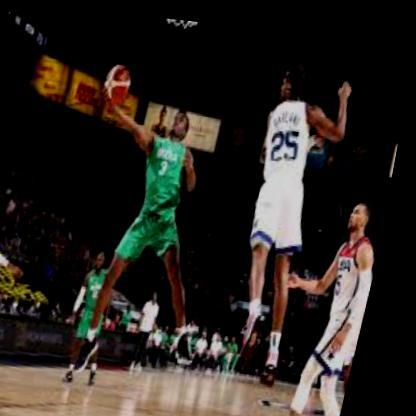basketball: (103, 60, 137, 104)
